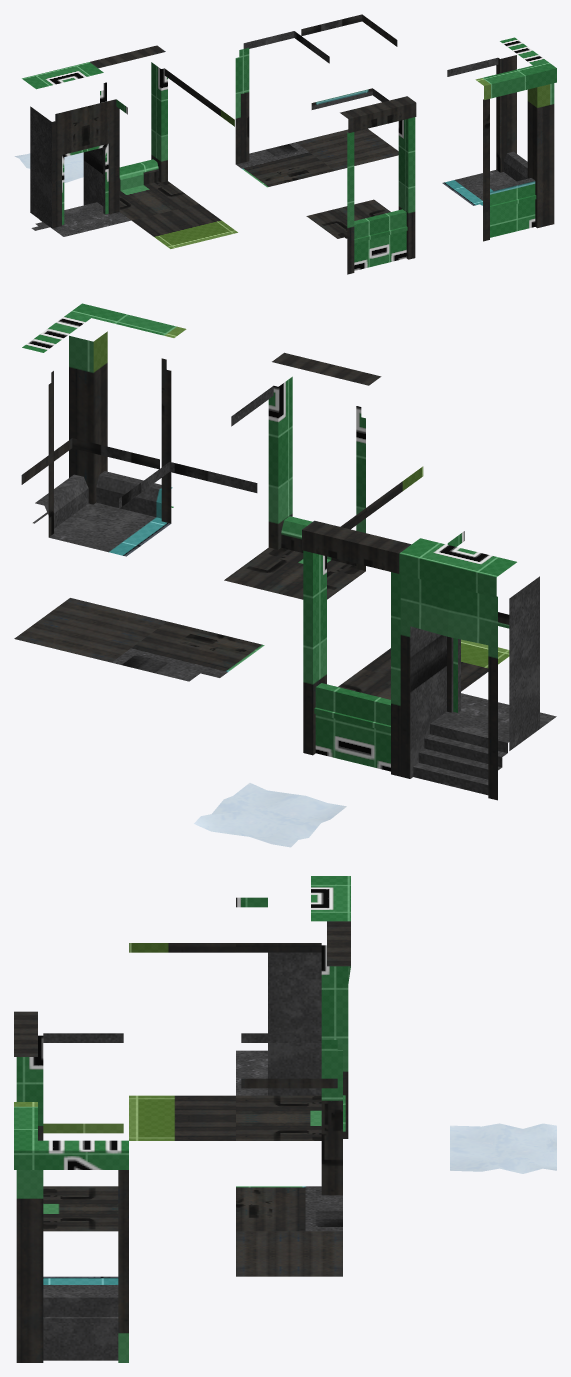
File: grave_factory_tiles.glb
3 views of the same model, one above another, from view 1: azimuth 30°, elevation 25°; view 2: azimuth 150°, elevation 25°; view 3: azimuth 270°, elevation 25° (orthographic). The views are drawn at different scales.
Parts seen in each view (by area): view 1: 15_fac_ground_wall_out_corner-col, 12_fac_ground_wall_door-col, 14_fac_ground_wall_corner_side-col, 09_fac_ground_wall-col, 13_fac_ground_wall_in_corner-col, 11_fac_ground_floor_corner-col, 10_fac_ground_floor-col, 00_fac_snow; view 2: 12_fac_ground_wall_door-col, 15_fac_ground_wall_out_corner-col, 09_fac_ground_wall-col, 14_fac_ground_wall_corner_side-col, 11_fac_ground_floor_corner-col, 13_fac_ground_wall_in_corner-col, 00_fac_snow, 10_fac_ground_floor-col; view 3: 15_fac_ground_wall_out_corner-col, 12_fac_ground_wall_door-col, 13_fac_ground_wall_in_corner-col, 09_fac_ground_wall-col, 14_fac_ground_wall_corner_side-col, 10_fac_ground_floor-col, 11_fac_ground_floor_corner-col, 00_fac_snow.
Part boxes in pixels (x1=…): 15_fac_ground_wall_out_corner-col: x1=442, y1=37, x2=556, y2=241; 12_fac_ground_wall_door-col: x1=22, y1=62, x2=130, y2=236; 14_fac_ground_wall_corner_side-col: x1=306, y1=88, x2=416, y2=274; 09_fac_ground_wall-col: x1=90, y1=45, x2=198, y2=220; 13_fac_ground_wall_in_corner-col: x1=235, y1=31, x2=334, y2=187; 11_fac_ground_floor_corner-col: x1=296, y1=14, x2=398, y2=170; 10_fac_ground_floor-col: x1=132, y1=91, x2=237, y2=248; 00_fac_snow: x1=14, y1=152, x2=83, y2=182; 12_fac_ground_wall_door-col: x1=399, y1=531, x2=556, y2=800; 15_fac_ground_wall_out_corner-col: x1=22, y1=303, x2=186, y2=556; 09_fac_ground_wall-col: x1=302, y1=507, x2=411, y2=776; 14_fac_ground_wall_corner_side-col: x1=224, y1=352, x2=381, y2=599; 11_fac_ground_floor_corner-col: x1=14, y1=438, x2=166, y2=662; 13_fac_ground_wall_in_corner-col: x1=112, y1=462, x2=264, y2=681; 00_fac_snow: x1=194, y1=783, x2=346, y2=847; 10_fac_ground_floor-col: x1=363, y1=466, x2=509, y2=691; 15_fac_ground_wall_out_corner-col: x1=14, y1=1102, x2=128, y2=1362; 12_fac_ground_wall_door-col: x1=236, y1=876, x2=350, y2=1095; 13_fac_ground_wall_in_corner-col: x1=236, y1=1033, x2=342, y2=1231; 09_fac_ground_wall-col: x1=236, y1=921, x2=350, y2=1140; 14_fac_ground_wall_corner_side-col: x1=14, y1=1011, x2=123, y2=1231; 10_fac_ground_floor-col: x1=129, y1=943, x2=235, y2=1140; 11_fac_ground_floor_corner-col: x1=236, y1=1078, x2=342, y2=1276; 00_fac_snow: x1=450, y1=1123, x2=556, y2=1173.
Size of what is drawn, in the model's own units: 12.15 by 4.4 by 10.15.
Materials: 1 (1 with a texture image).
